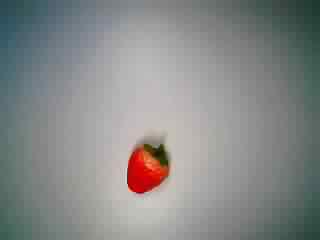strawberry: (116, 134, 178, 198)
